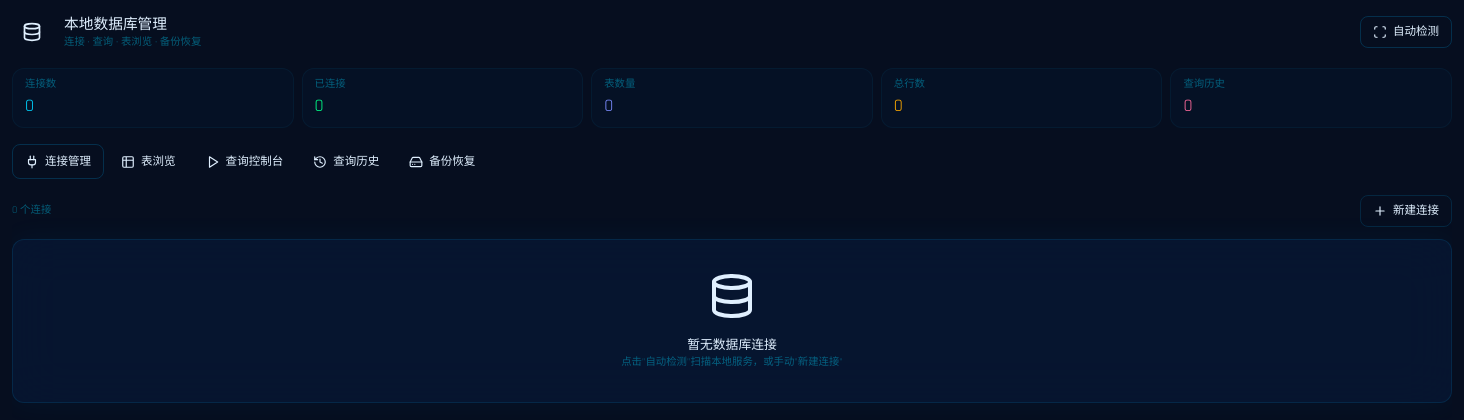
it: DatabaseManager › 备份空态应提示且未连接时不显示创建按钮
The width and height of the screenshot is (1464, 420).
Click the button "备份恢复": (442, 162) [396,144,488,179]
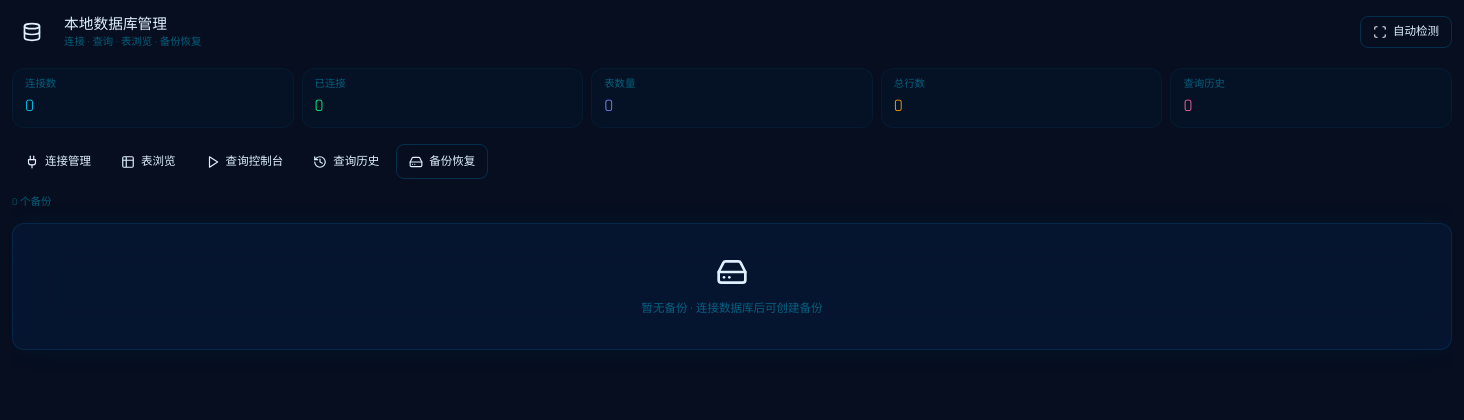
Expected: the text "暂无备份 · 连接数据库后可创建备份" is shown, [641,301,823,316]
